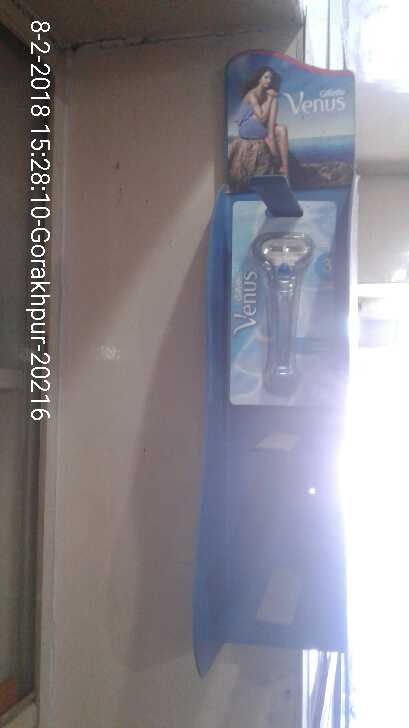venus: (227, 190, 341, 404)
